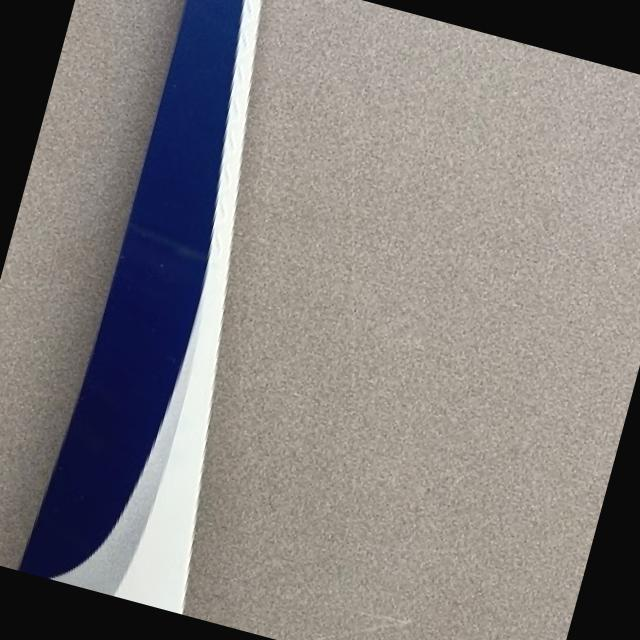healthy: (182, 0, 640, 640), (19, 0, 259, 612)
